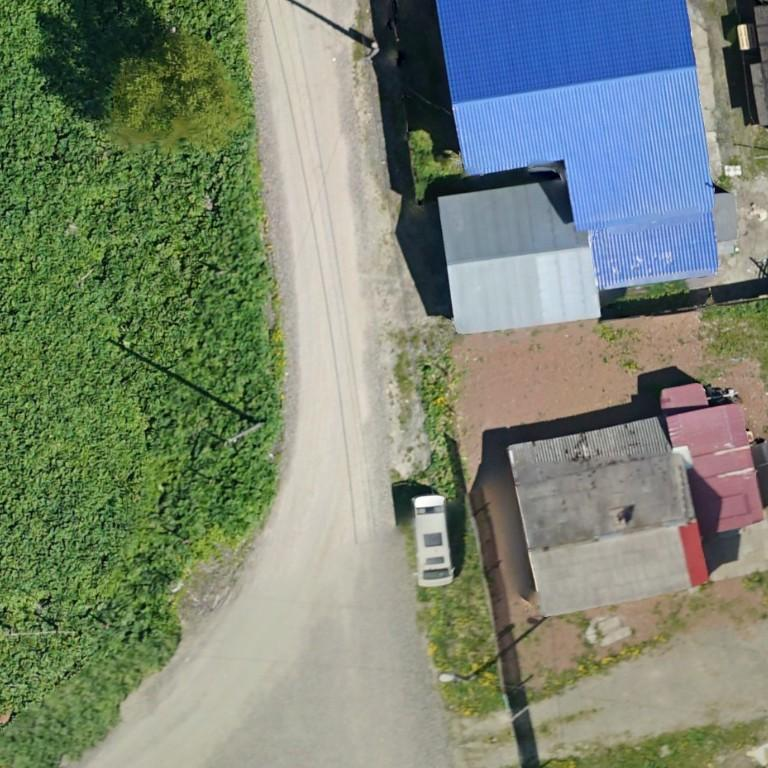hogweed: (0, 0, 282, 600), (0, 583, 178, 767)
